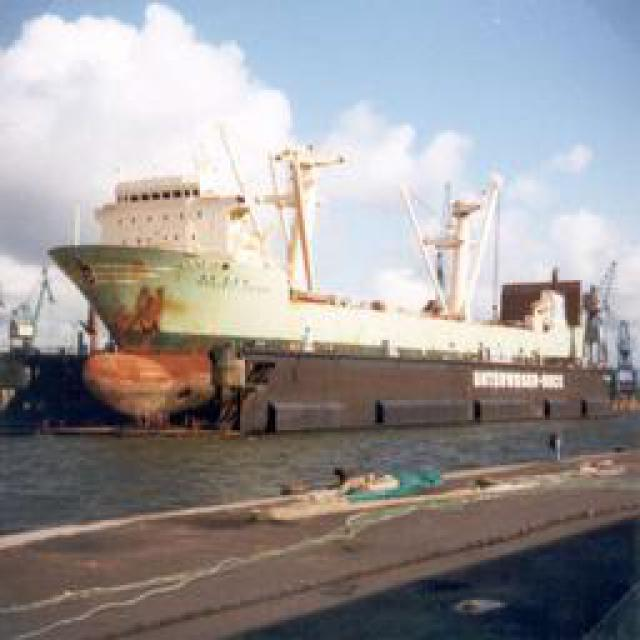Ship: (41, 153, 639, 421)
